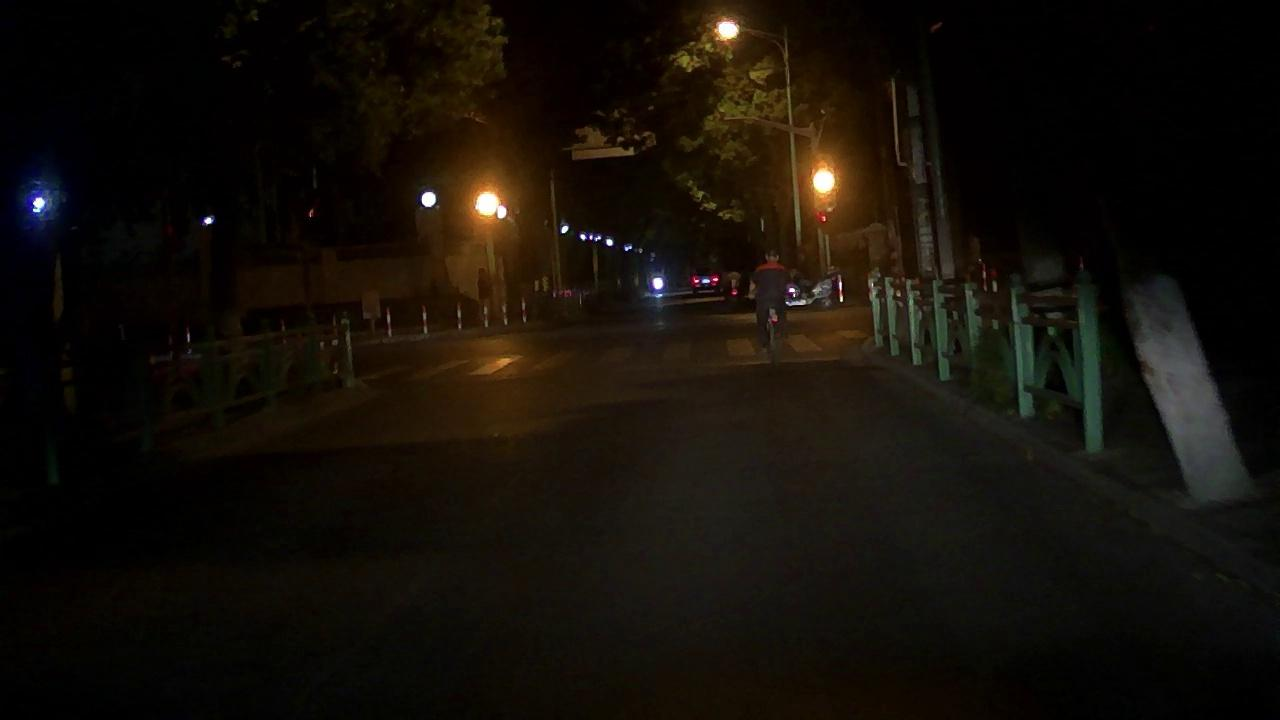traffic_light: (470, 184, 506, 222), (807, 161, 839, 199)
